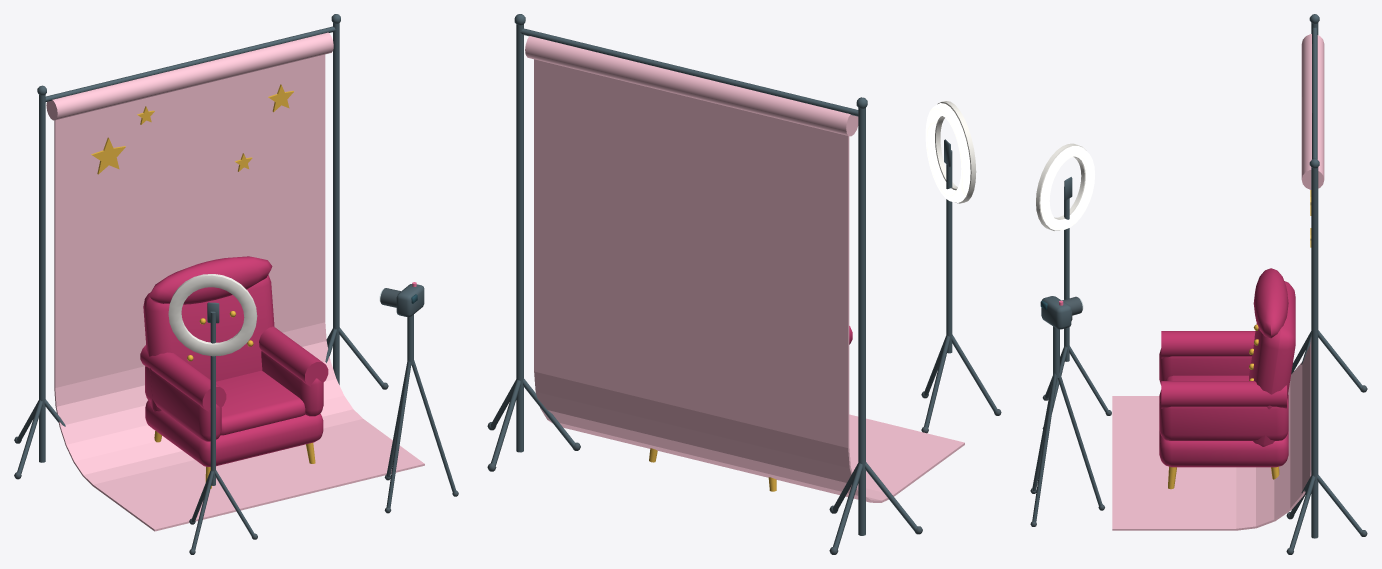
Rendered from smile_studio.glb.
3 renders of one model, left to right at view 1: azimuth 30°, elevation 25°; view 2: azimuth 150°, elevation 25°; view 3: azimuth 270°, elevation 25°, orthographic. The views are drawn at different scales.
Visible parts, largest first — view 1: SmileStudio; view 2: SmileStudio; view 3: SmileStudio.
Part boxes in pixels (x1=…): SmileStudio: x1=14, y1=14, x2=458, y2=554; SmileStudio: x1=487, y1=14, x2=1001, y2=554; SmileStudio: x1=1030, y1=14, x2=1367, y2=554.
Size of the model in its own units: 2.48 by 2.39 by 1.93.
